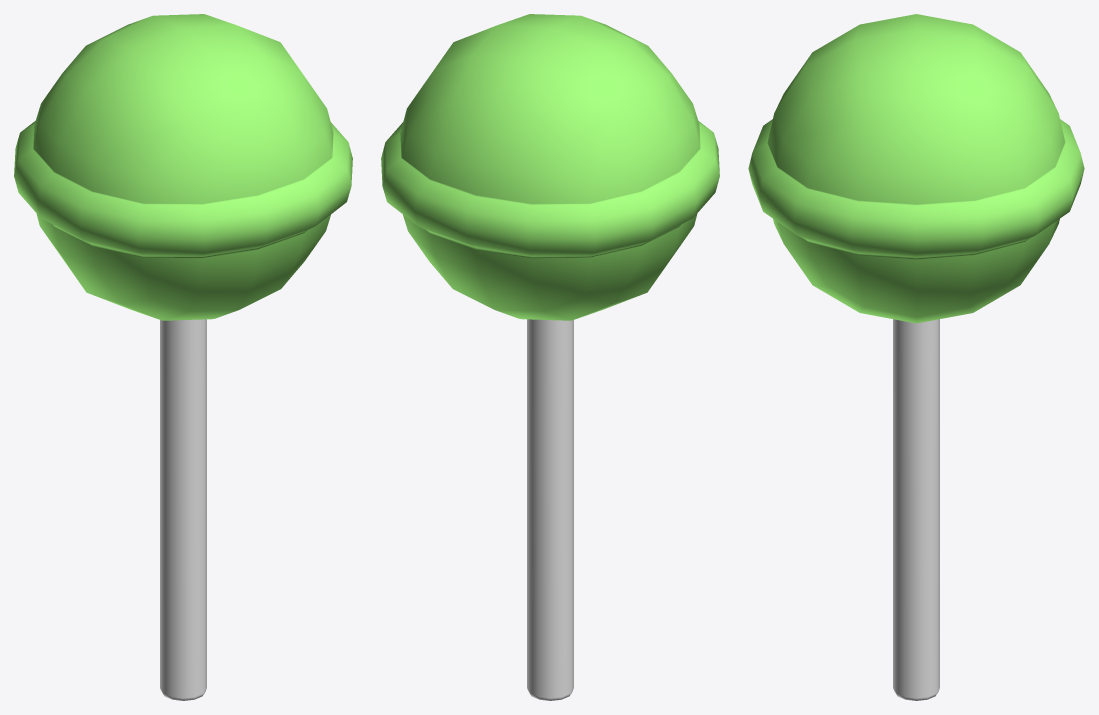
Rendered from Candy.fbx.
The picture shows the model from 3 angles, left to right: view 1: azimuth 30°, elevation 25°; view 2: azimuth 150°, elevation 25°; view 3: azimuth 270°, elevation 25°; orthographic projection.
Parts seen in each view (by area): view 1: pCylinder2; view 2: pCylinder2; view 3: pCylinder2.
Part boxes in pixels (x1,y1,x2,y2): pCylinder2: [14, 14, 352, 700]; pCylinder2: [381, 14, 719, 700]; pCylinder2: [748, 14, 1084, 700].
Size of the model in its own units: 124 by 270 by 124.
